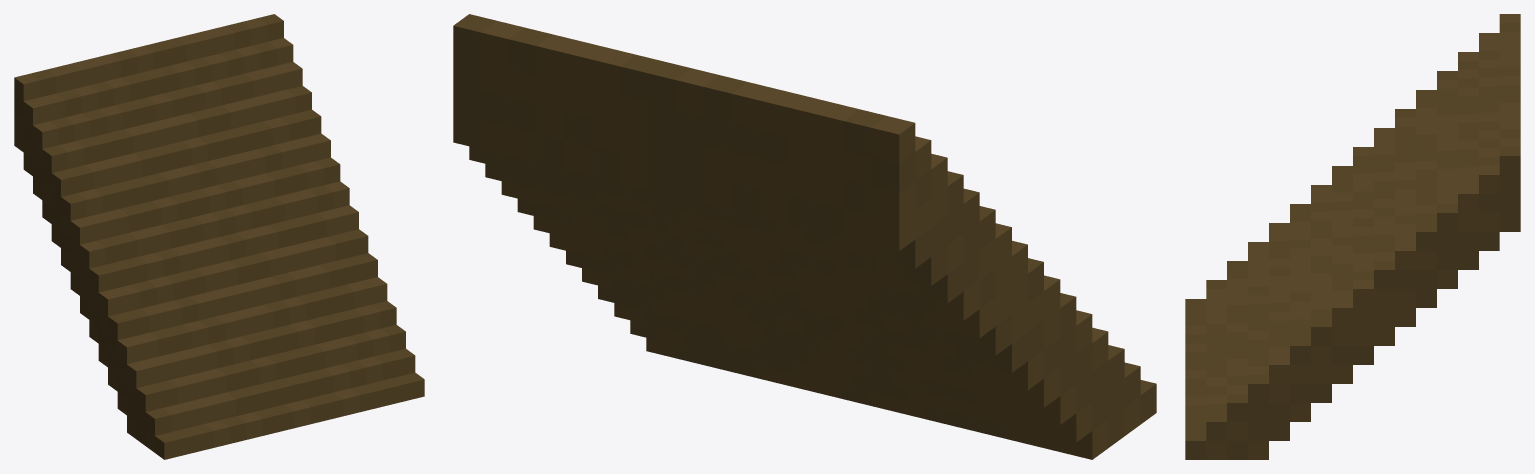
The model's file is tavern-43-roof_middle.obj.
3 views of the same model, side by side, from view 1: azimuth 30°, elevation 25°; view 2: azimuth 150°, elevation 25°; view 3: azimuth 270°, elevation 25° (orthographic). The views are drawn at different scales.
Visible parts, largest first — view 1: roof_middle; view 2: roof_middle; view 3: roof_middle.
Part boxes in pixels (x1=…): roof_middle: x1=14, y1=14, x2=424, y2=459; roof_middle: x1=453, y1=14, x2=1156, y2=459; roof_middle: x1=1185, y1=14, x2=1520, y2=459.
Size of the model in its own units: 1.6 by 1.6 by 1.6.
Materials: 1 (1 with a texture image).
